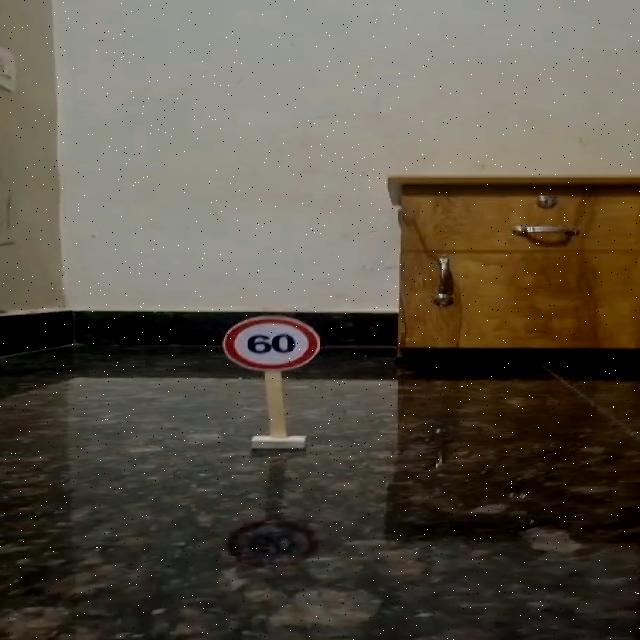Speed60: (220, 314, 322, 372)
